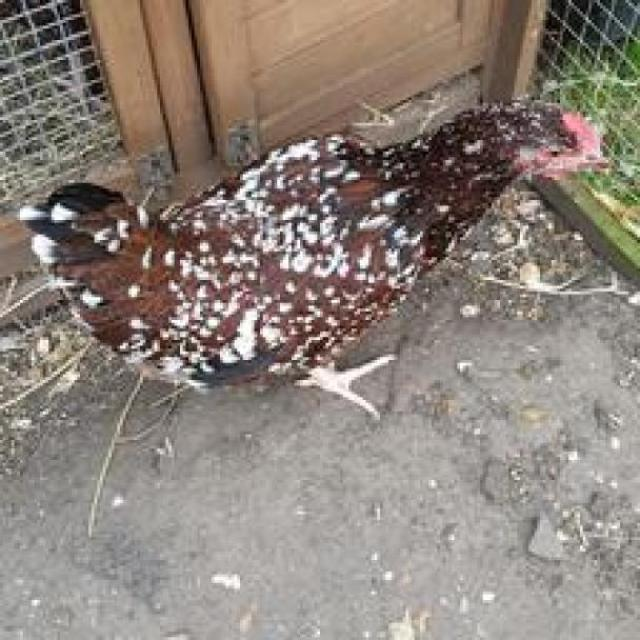Chicken: (13, 60, 625, 440)
